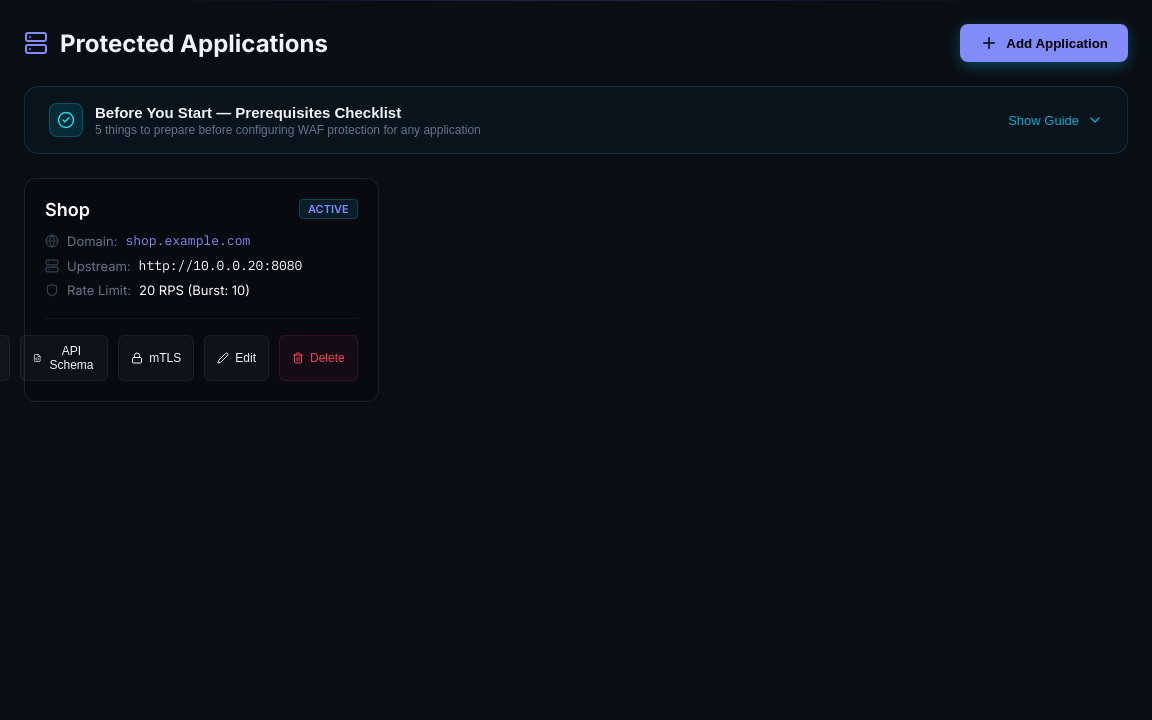
Test: ProtectedApps — mTLS modal › keeps Enable mTLS disabled until a CA certificate is uploaded
What coordinates should you click on to do the following:
click the button "mTLS"
I would click on:
 (156, 358)
Its box is 118,335 -> 194,381.
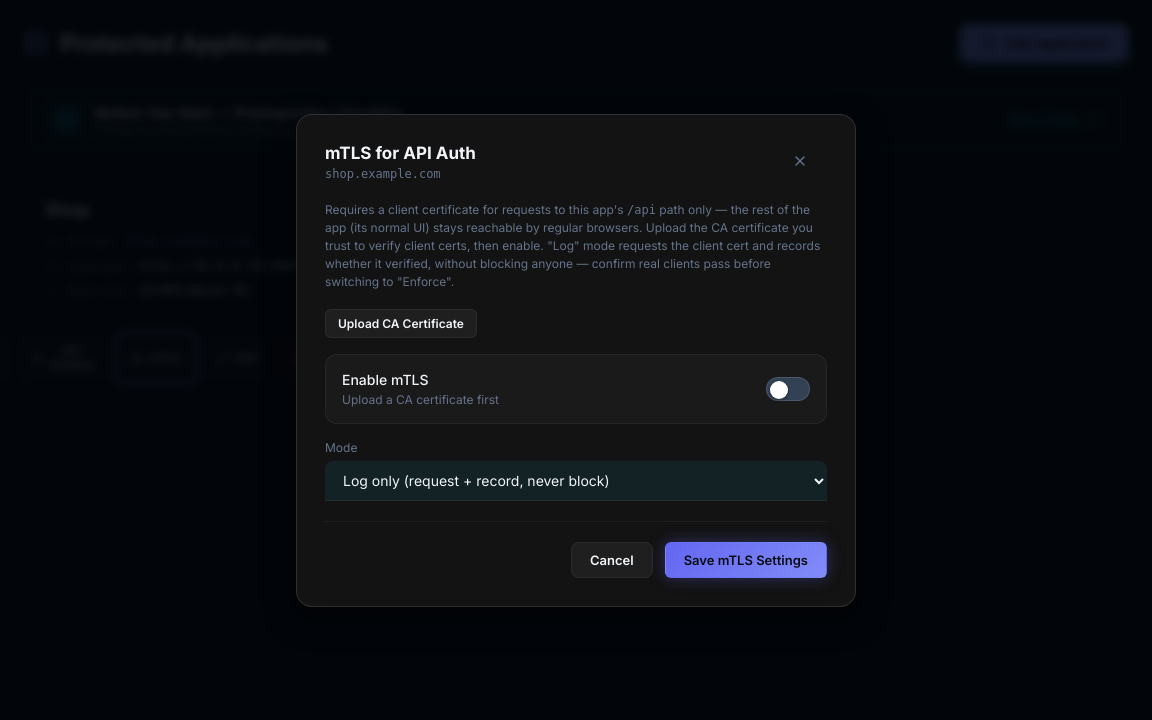
Now the switch named "Enable mTLS" is disabled, box 766,376 -> 810,400
